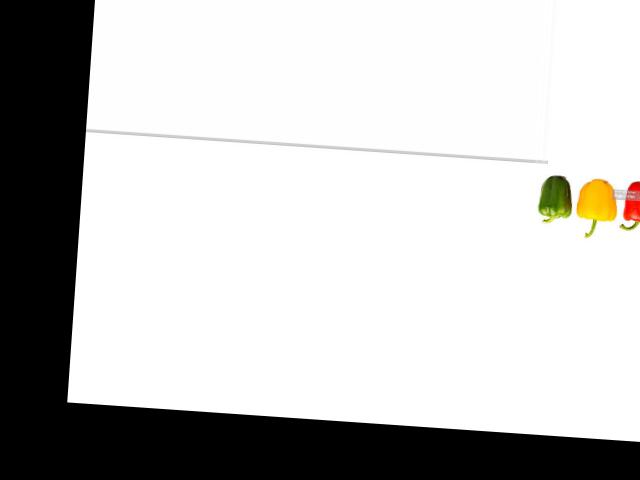bell_pepper: (532, 171, 572, 231)
